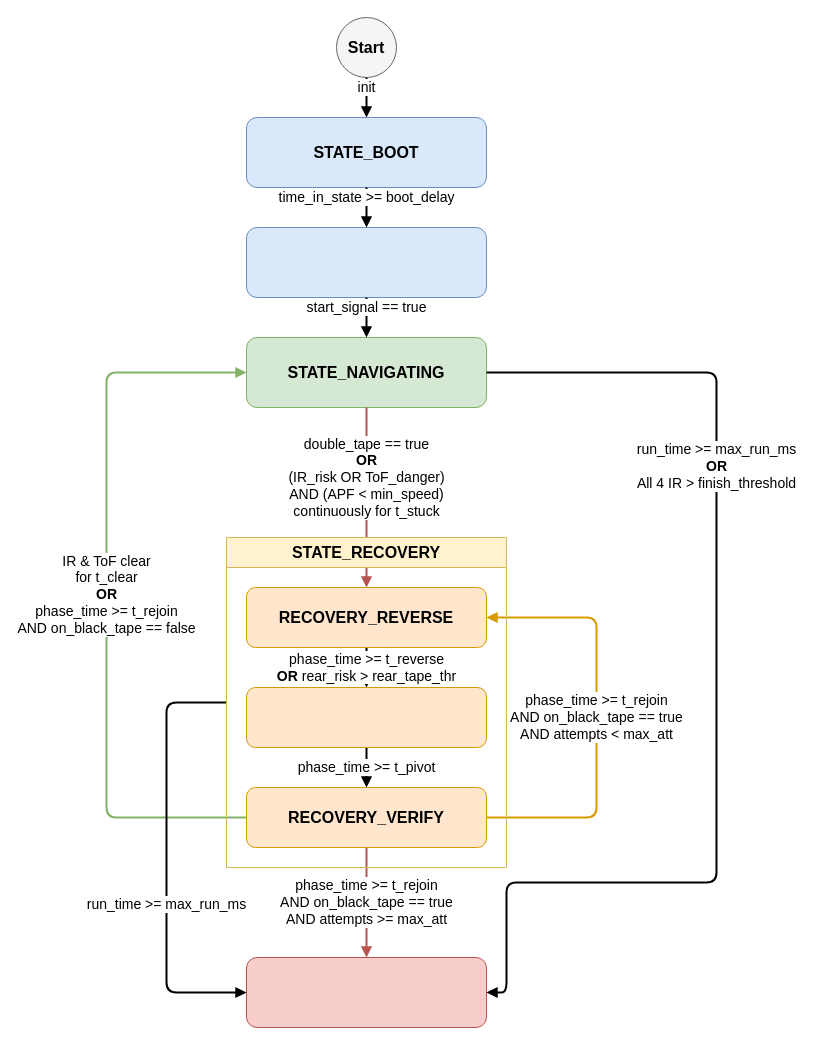
The diagram is 813 pixels wide and 1045 high, and some of its shapes have lost their labels. Each missing label, with the centre of its shape:
"RECOVERY_PIVOT" belongs at [366,717].
"STATE_FINISH" belongs at [366,992].
"STATE_WAIT_FOR_GO" belongs at [366,262].
